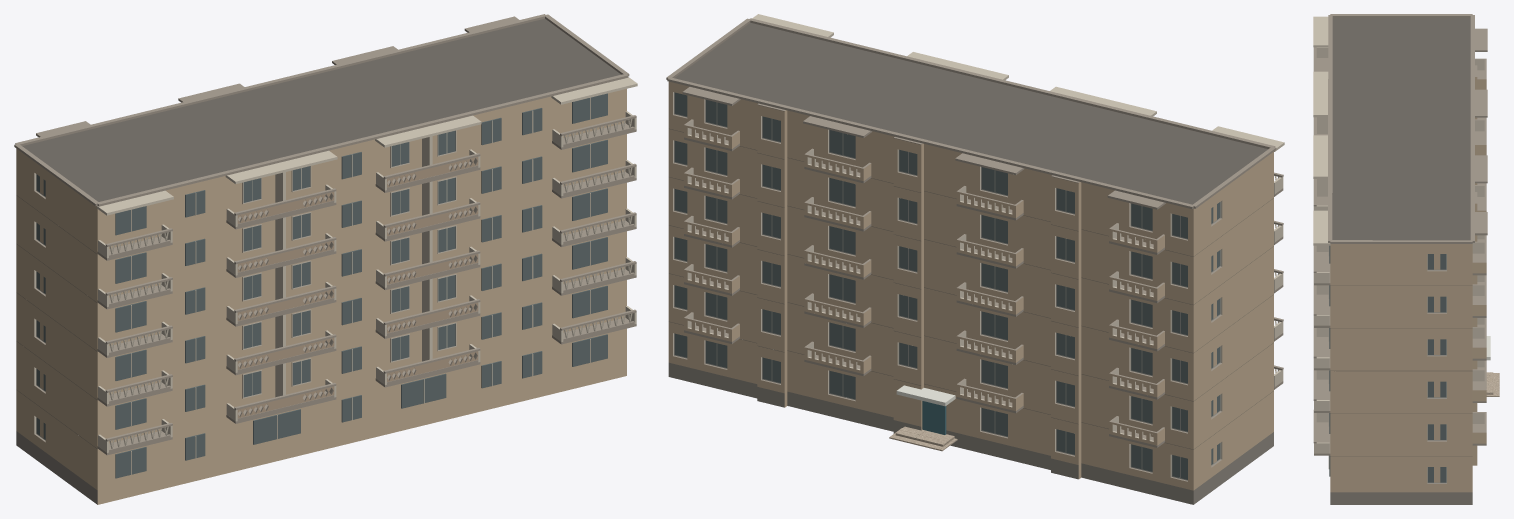
File: chunk-dorm-way-759147056.glb
3 views of the same model, side by side, from view 1: azimuth 30°, elevation 25°; view 2: azimuth 150°, elevation 25°; view 3: azimuth 270°, elevation 25° (orthographic). The views are drawn at different scales.
Parts seen in each view (by area): view 1: chunk-dorm-way-759147056; view 2: chunk-dorm-way-759147056; view 3: chunk-dorm-way-759147056.
Boxes of the visible parts, x1,y1,x2,y2 form: chunk-dorm-way-759147056: (14,14,637,504); chunk-dorm-way-759147056: (666,14,1284,504); chunk-dorm-way-759147056: (1313,14,1499,504).
Size of the model in its own units: 37.91 by 20.45 by 13.1.
12 materials, 1 textured.
